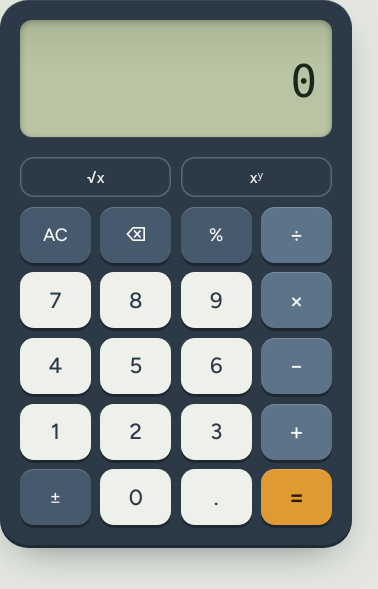
Test: <Calculator /> › adds two numbers through the API
Click the button "1": (55, 432) left=20, top=404, right=91, bottom=460
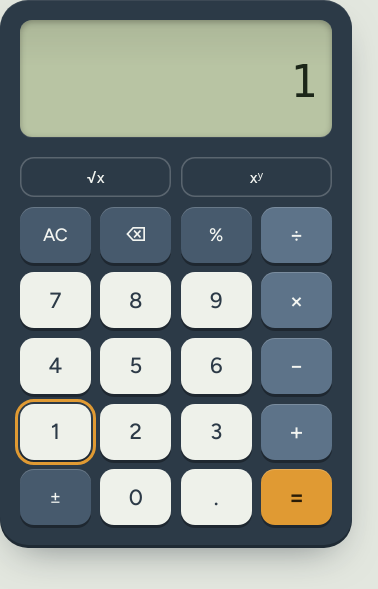
Click the button "2": (136, 432) left=100, top=404, right=171, bottom=460
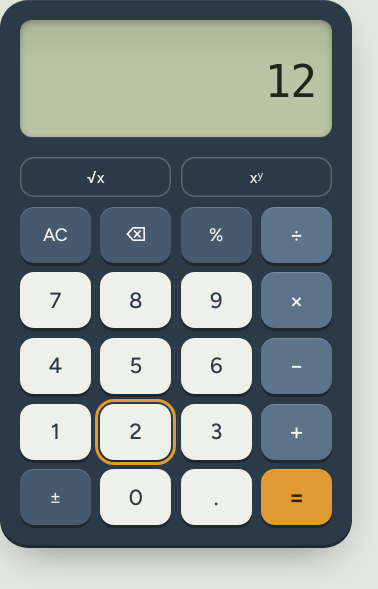
Click the button named "Add": (297, 432) left=261, top=404, right=332, bottom=460
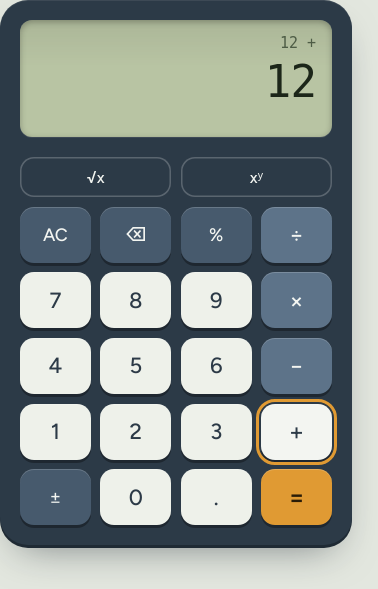
Click the button "3": (216, 432) left=181, top=404, right=252, bottom=460
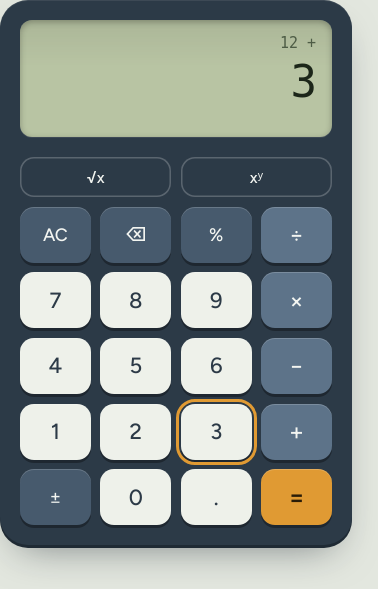
Click the button named "Equals": (297, 497) left=261, top=469, right=332, bottom=525
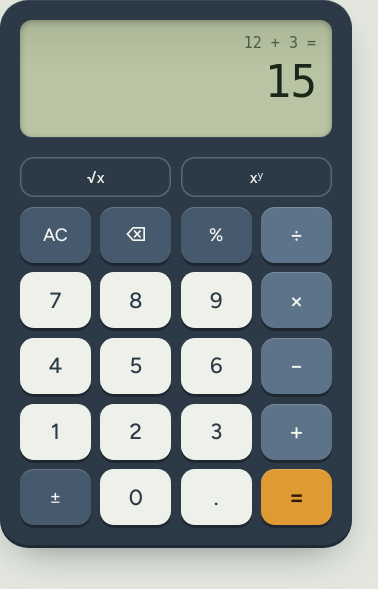
Check: the text with test id "display" reads "15", box left=265, top=56, right=316, bottom=107
Check: the text with test id "expression" reads "12 + 3 =", box left=244, top=34, right=316, bottom=52
